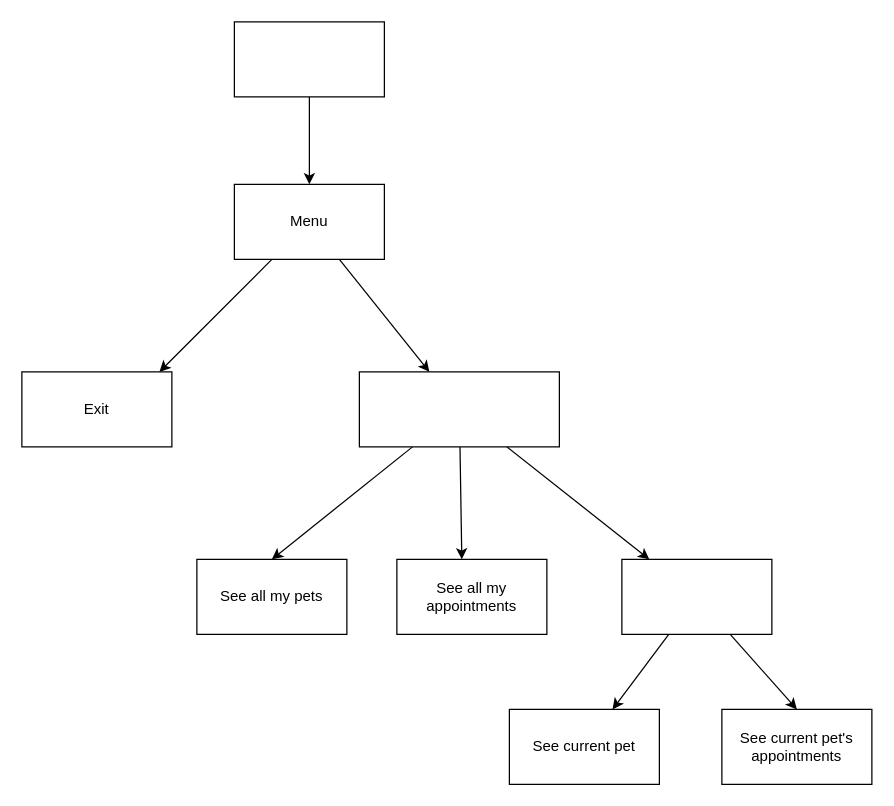
The diagram is 894 pixels wide and 806 high, and some of its shapes have lost their labels. The centre of each missing label's shape, as x and y in pixels:
"Select a pet" goes at [696,596].
"Set the current owner" goes at [458,409].
"Welcome" goes at [308,59].
